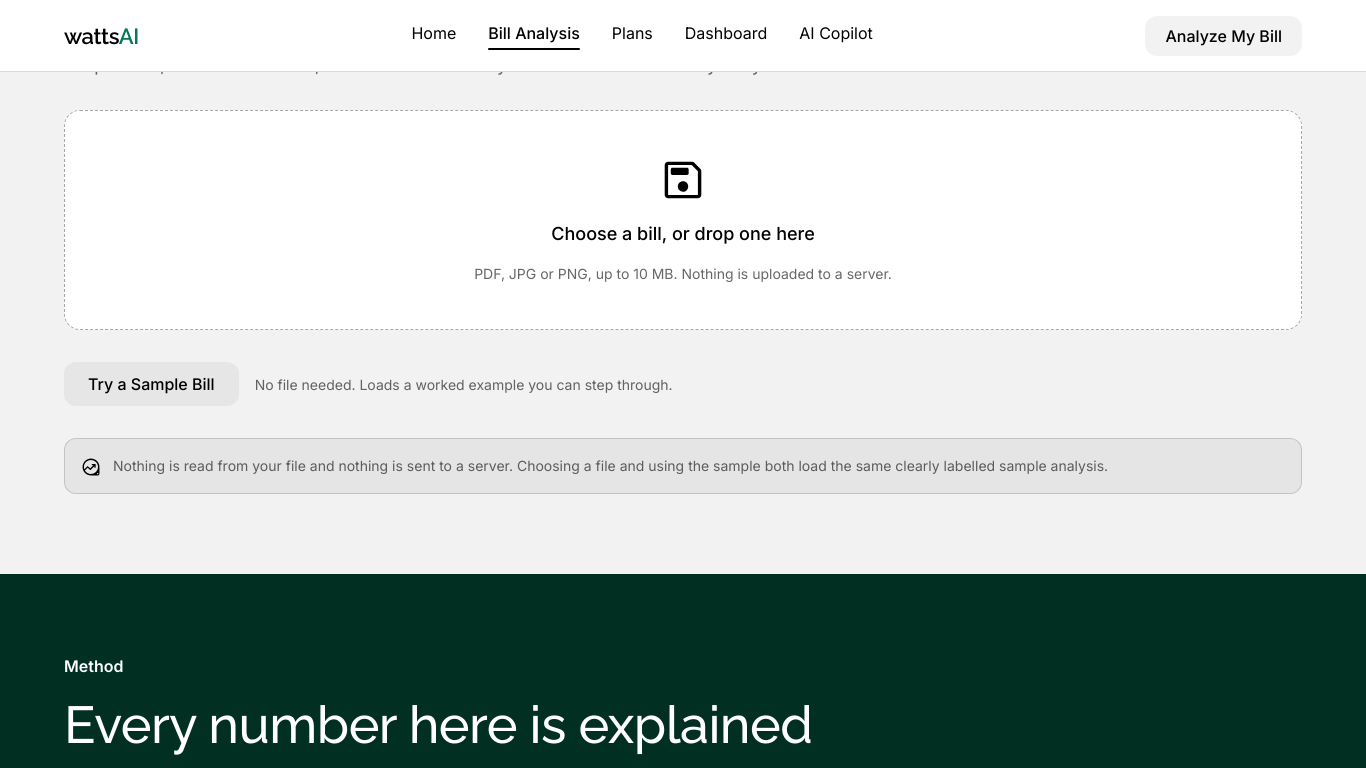
review step › saves an edit and keeps it
The width and height of the screenshot is (1366, 768).
(page scrolled)
Click the button "Try a Sample Bill": click(151, 384) left=64, top=362, right=239, bottom=406
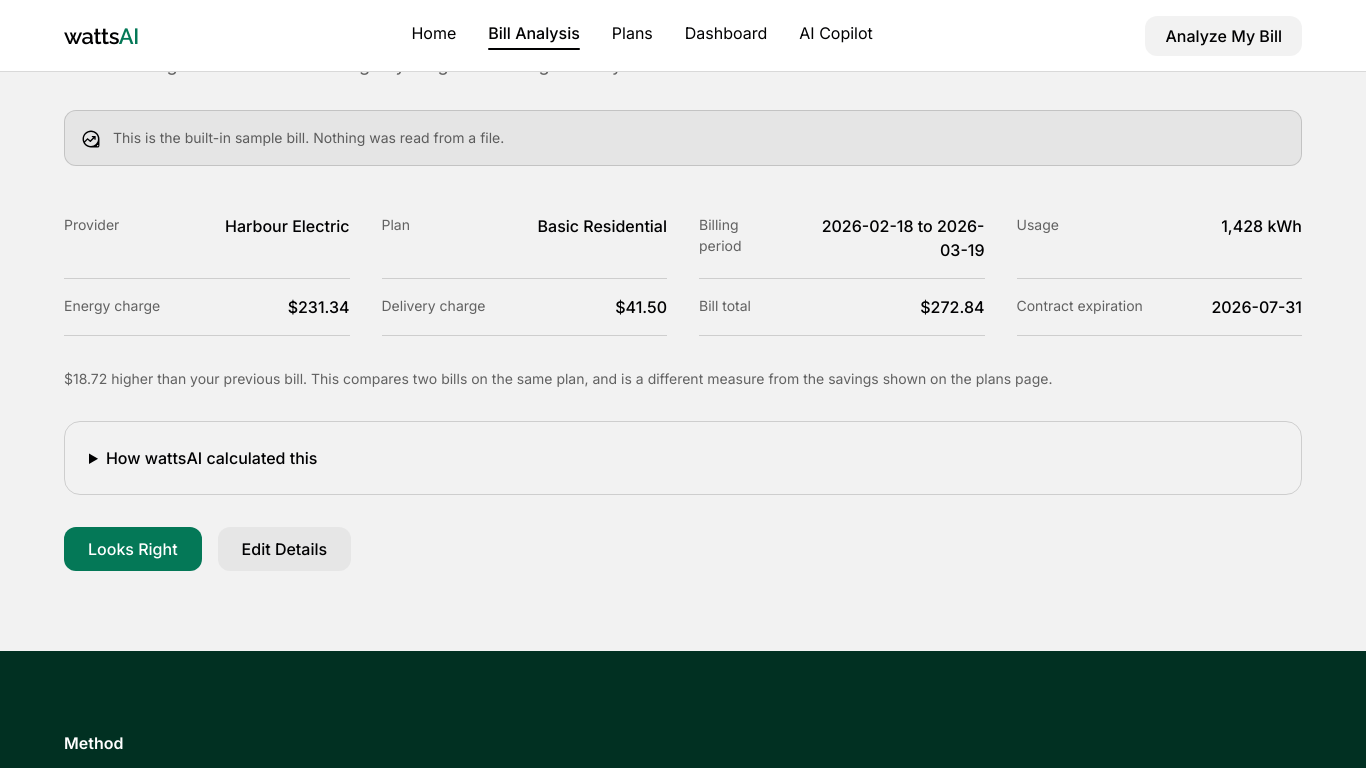
Click the button "Edit Details": click(284, 549) left=218, top=527, right=351, bottom=571
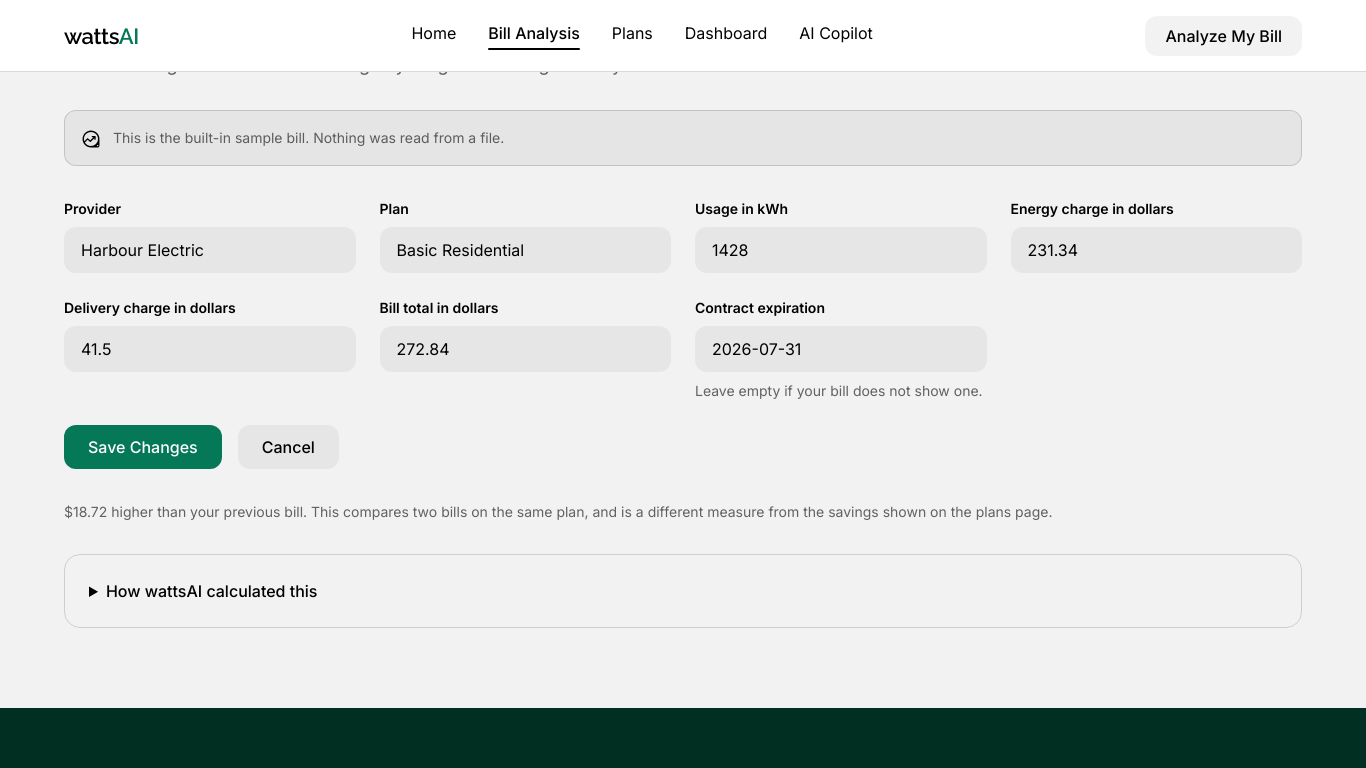
Replace the text in the number field labelled "Usage in kWh" with "1600": (841, 250) left=695, top=227, right=986, bottom=273
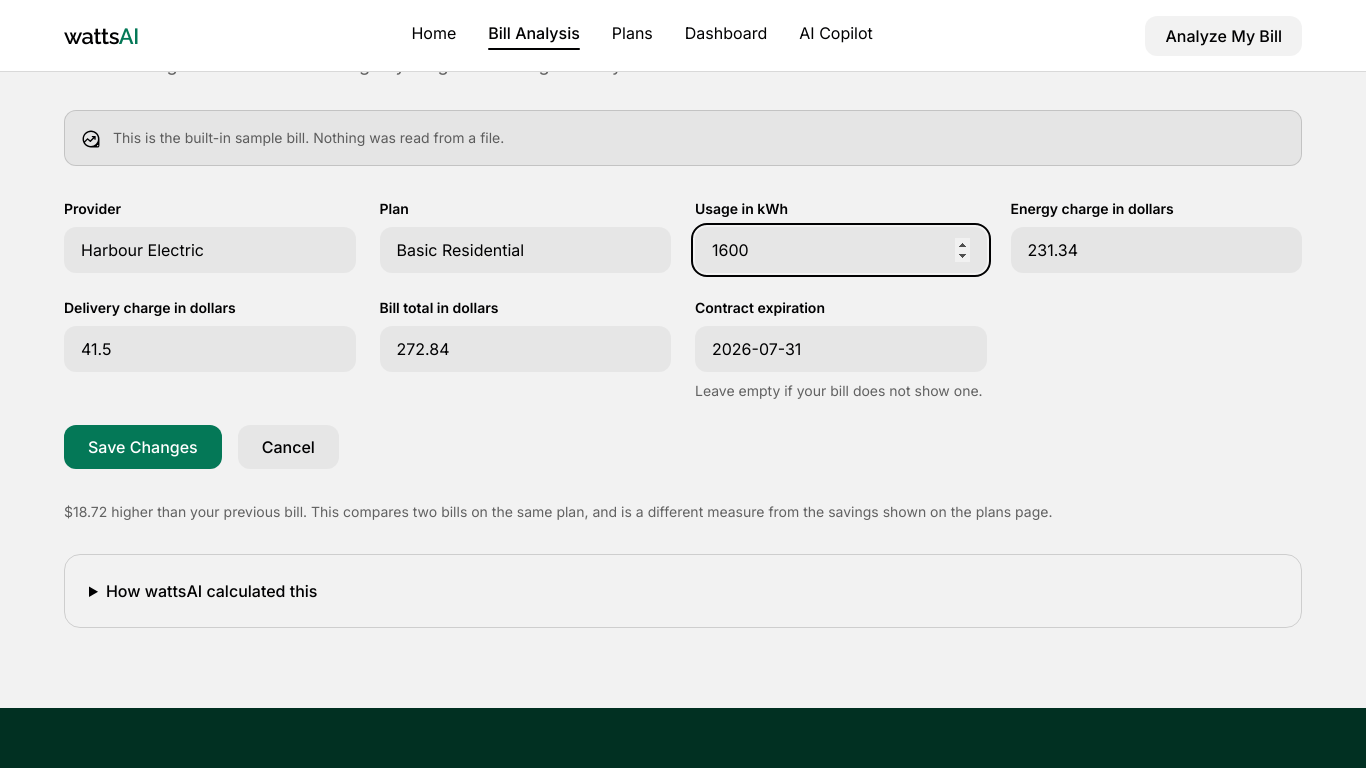
Click the button "Save Changes": click(143, 447) left=64, top=425, right=222, bottom=469
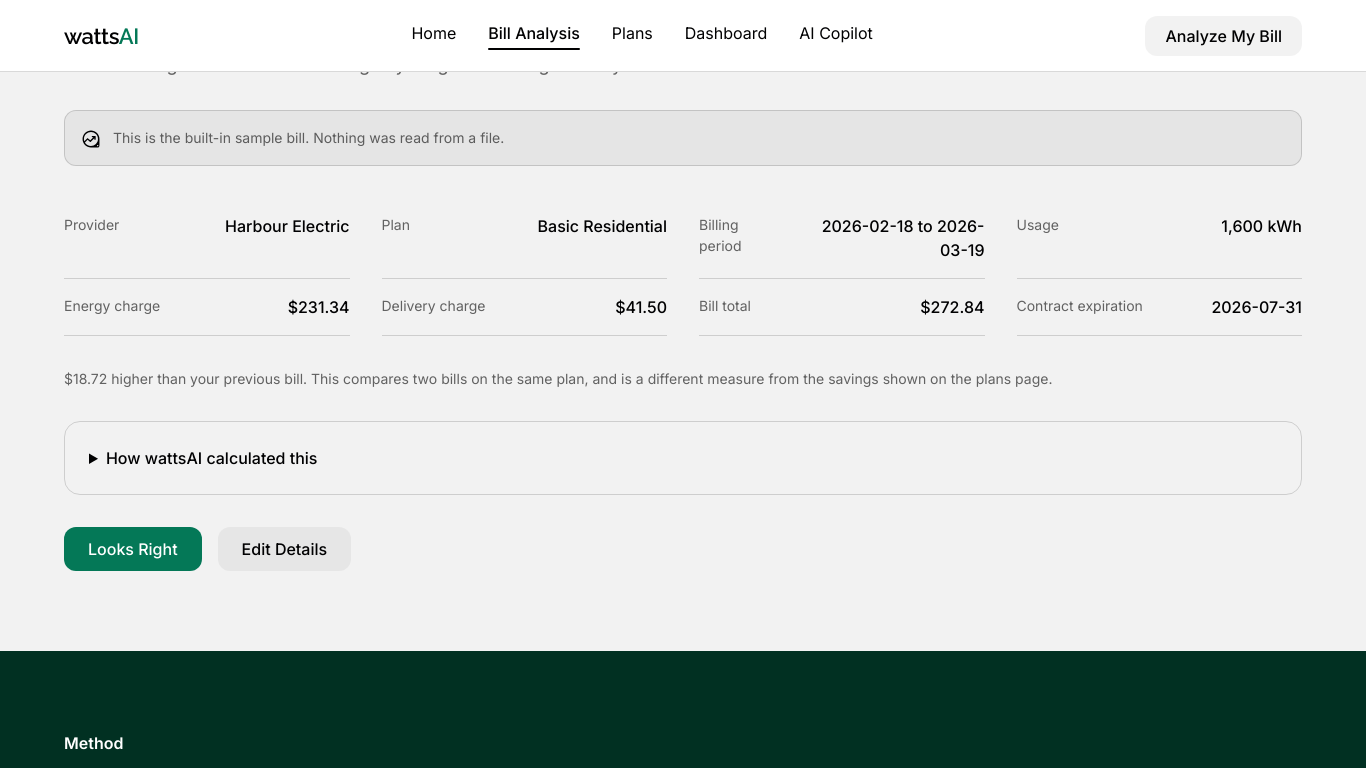
Check: the text "1,600 kWh" is shown, box left=1221, top=216, right=1302, bottom=236
